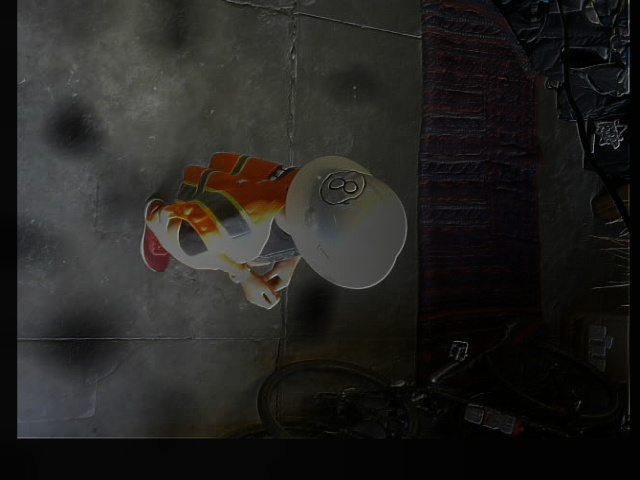eight: (318, 169, 367, 205)
